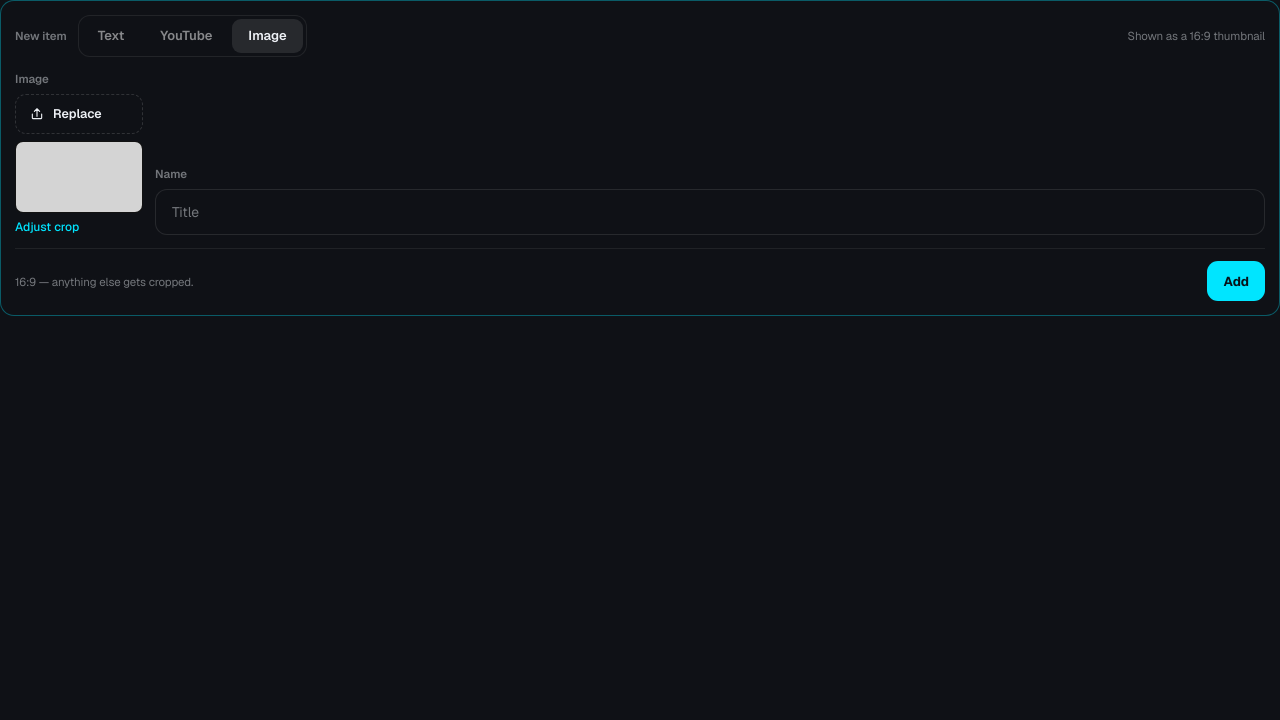
it: GroupItemAdder image input › previews the image at 16:9 and offers an Adjust-crop control that opens the cropper
Click the button "Adjust crop" at (47, 227), box x1=15 y1=219 x2=79 y2=235
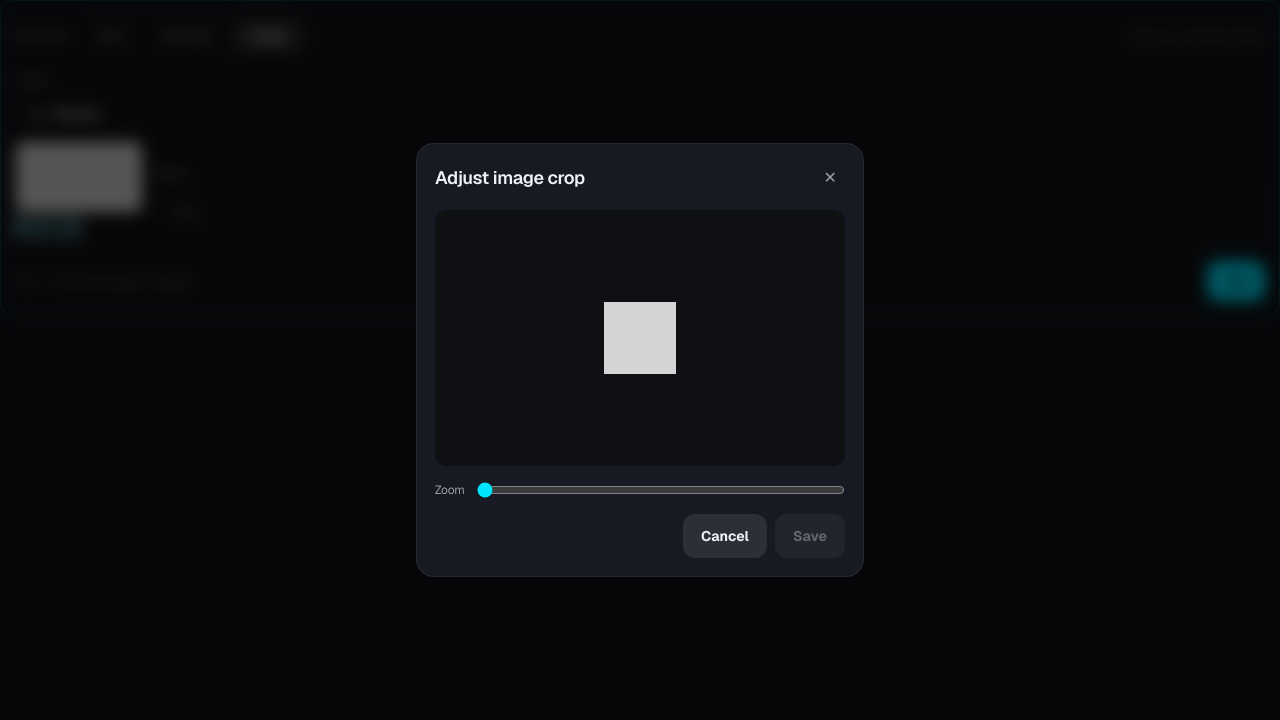
Result: the heading "Adjust image crop" is shown at x1=435 y1=164 x2=585 y2=192
